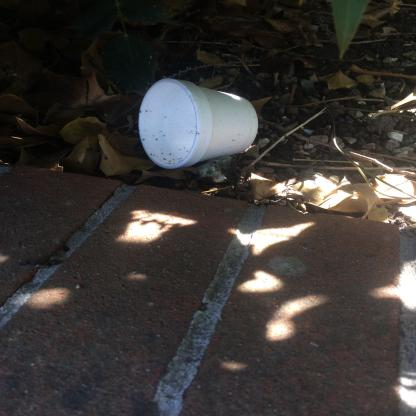kopuk: (138, 78, 259, 168)
